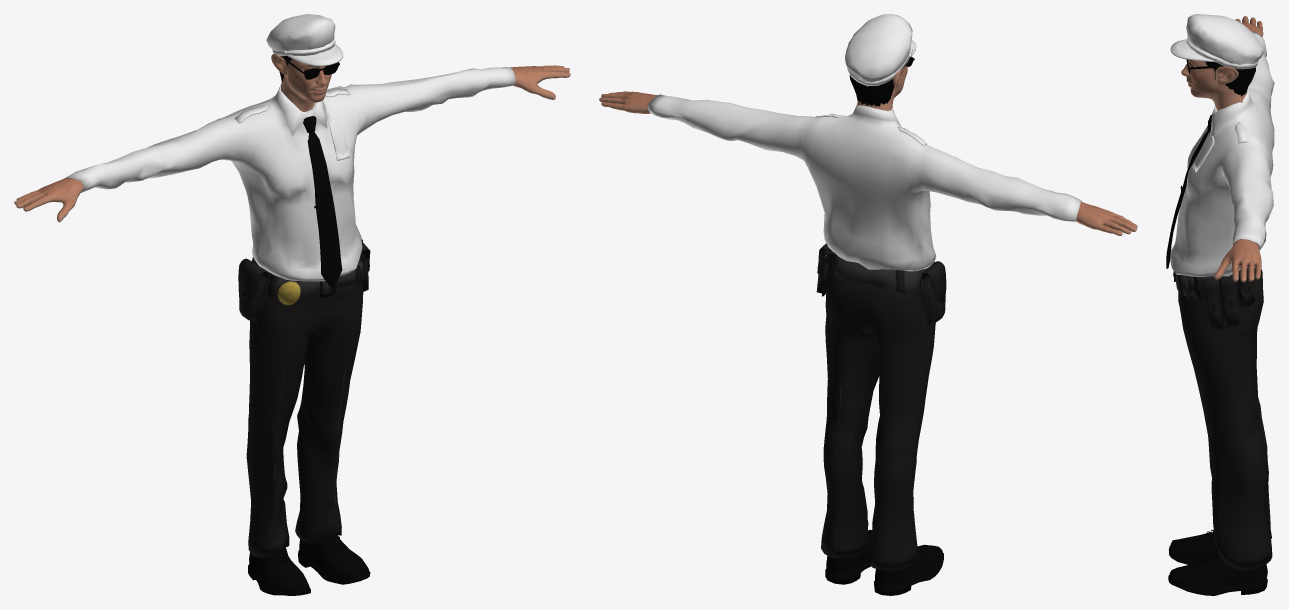
The model's file is polisi Pose T.fbx.
The picture shows the model from 3 angles, left to right: view 1: azimuth 30°, elevation 25°; view 2: azimuth 150°, elevation 25°; view 3: azimuth 270°, elevation 25°; orthographic projection. The views are drawn at different scales.
Parts seen in each view (by area): view 1: Object_11, Object_17, Object_9, Object_19, Object_13, Object_11.001; view 2: Object_17, Object_11, Object_13, Object_19, Object_9, Object_7; view 3: Object_17, Object_11, Object_19, Object_13, Object_9, Object_11.001, Object_7.
Boxes of the visible parts, left/top/right/bottom form: Object_11: left=65, top=67, right=515, bottom=281; Object_17: left=238, top=239, right=370, bottom=557; Object_9: left=14, top=54, right=570, bottom=222; Object_19: left=248, top=535, right=370, bottom=595; Object_13: left=266, top=14, right=343, bottom=66; Object_11.001: left=303, top=116, right=342, bottom=287; Object_17: left=816, top=243, right=946, bottom=570; Object_11: left=647, top=94, right=1081, bottom=271; Object_13: left=845, top=14, right=916, bottom=86; Object_19: left=825, top=529, right=943, bottom=595; Object_9: left=599, top=59, right=1137, bottom=235; Object_7: left=849, top=68, right=903, bottom=106; Object_17: left=1173, top=267, right=1272, bottom=570; Object_11: left=1170, top=31, right=1274, bottom=277; Object_19: left=1168, top=529, right=1267, bottom=595; Object_13: left=1170, top=14, right=1264, bottom=69; Object_9: left=1181, top=16, right=1263, bottom=282; Object_11.001: left=1166, top=115, right=1212, bottom=268; Object_7: left=1205, top=61, right=1255, bottom=96.
Bounding box in the file's own units: 187 × 183 × 32.22.
Materials: 8 (2 with a texture image).
